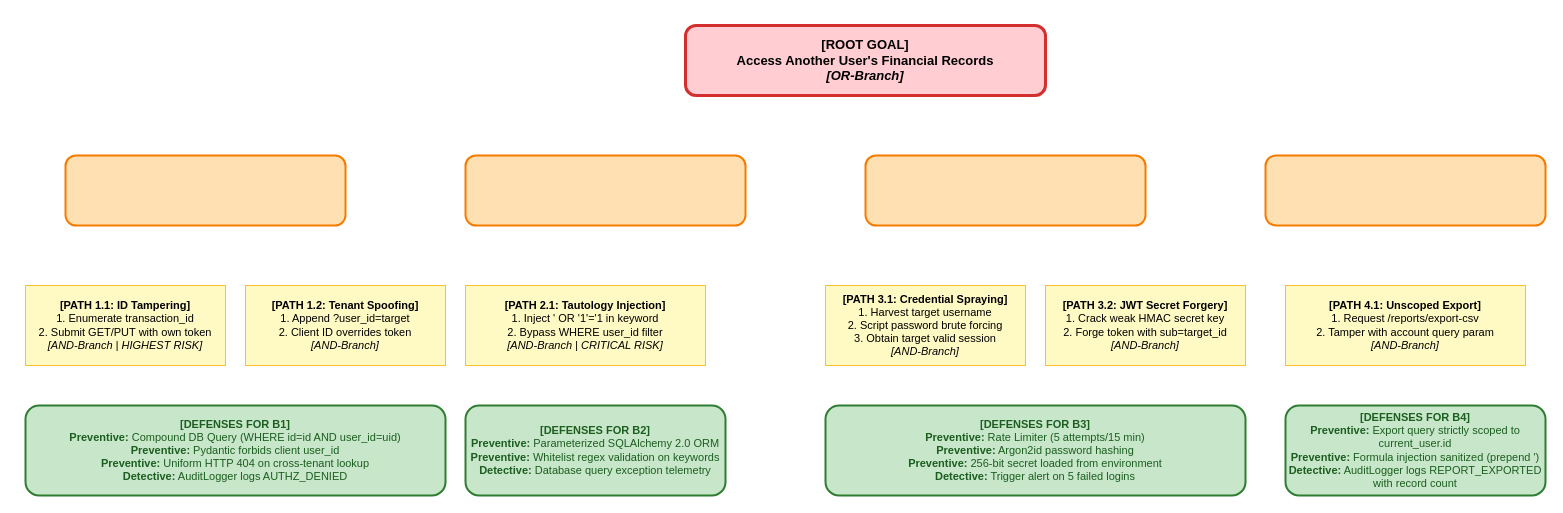
The diagram is 1563 pixels wide and 513 high, and some of its shapes have lost their labels. The centre of each missing label's shape, as x and y in pixels:
[SUB-GOAL 1: BOLA / IDOR] Bypass Object-Level Authorization [OR-Branch]: (x=205, y=190)
[SUB-GOAL 2: SQL INJECTION] Extract Records via Search SQLi [OR-Branch]: (x=605, y=190)
[SUB-GOAL 3: AUTH COMPROMISE] Takeover Account / Session [OR-Branch]: (x=1005, y=190)
[SUB-GOAL 4: REPORT LEAKAGE] Cross-Tenant Report Exfiltration [OR-Branch]: (x=1405, y=190)
